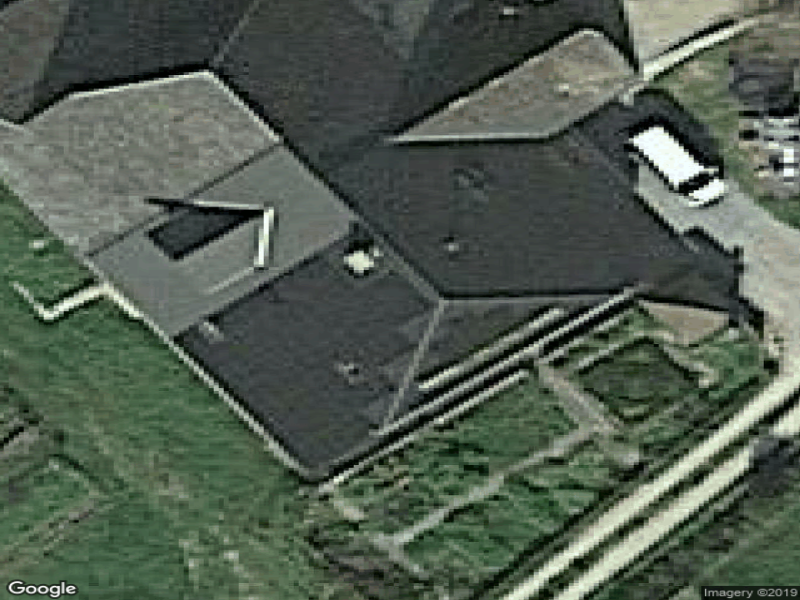pv: (177, 259, 433, 464)
